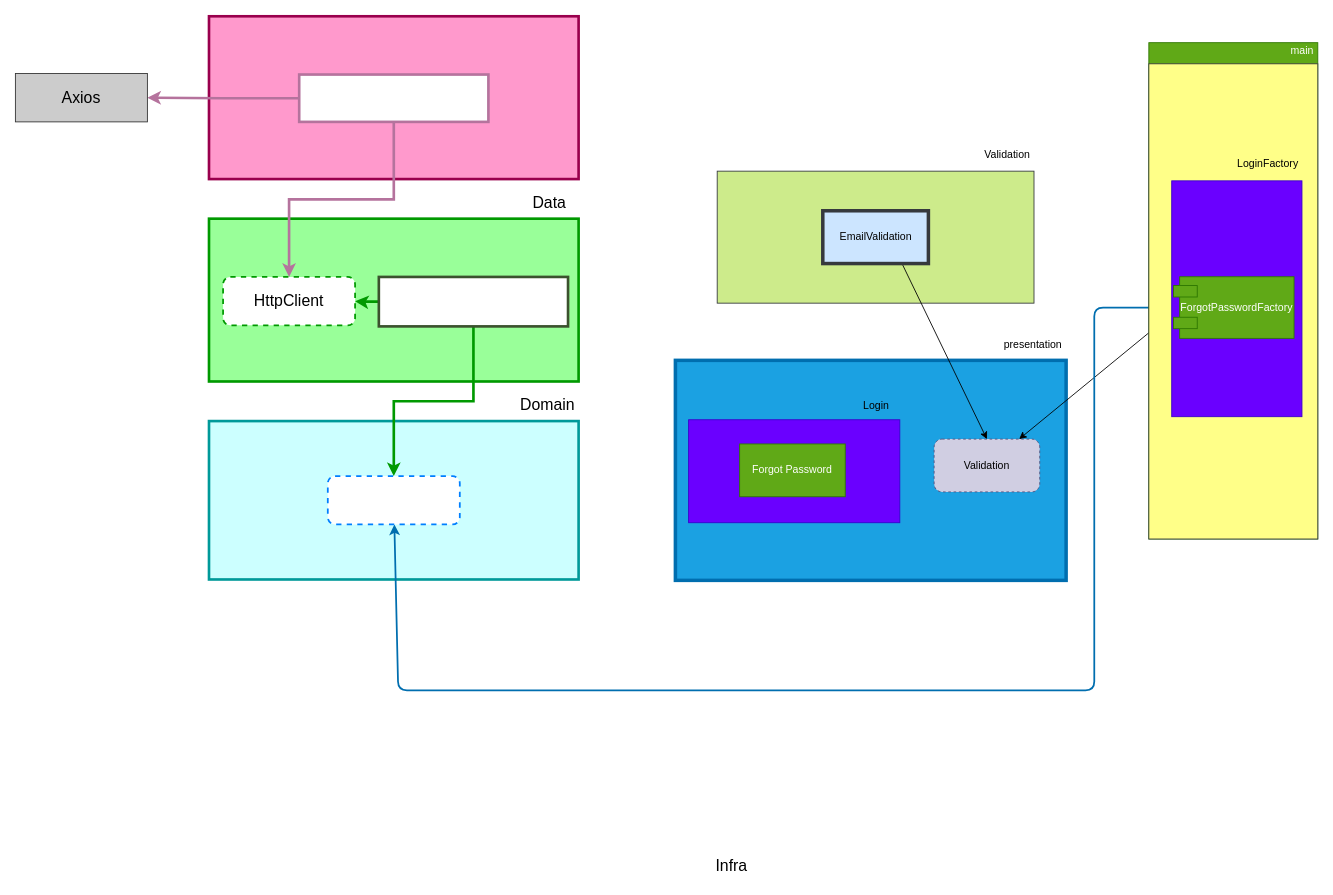
The diagram is 1333 pixels wide and 895 high, and some of its shapes have lost their labels. The shapes that lost their labels are listed below. From the top down, each one's centre as x and y in pixels, then its label:
point (393, 98): AxiosHttpClient
point (473, 301): RemoteForgotPassword
point (393, 500): Forgot
